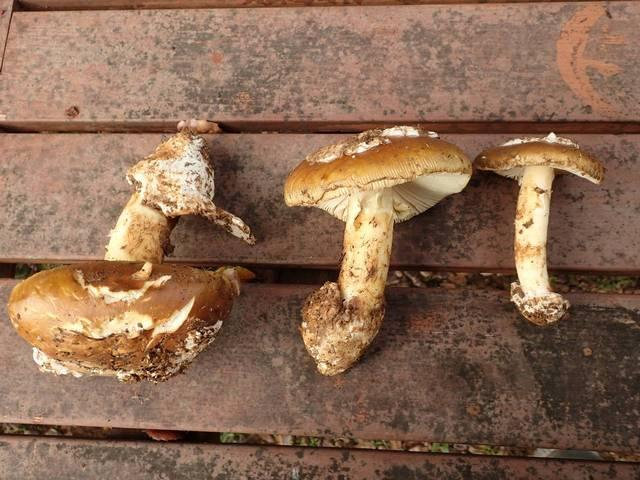edible_mushroom: (282, 124, 472, 376), (6, 258, 254, 383), (472, 131, 605, 326), (103, 117, 256, 264)
